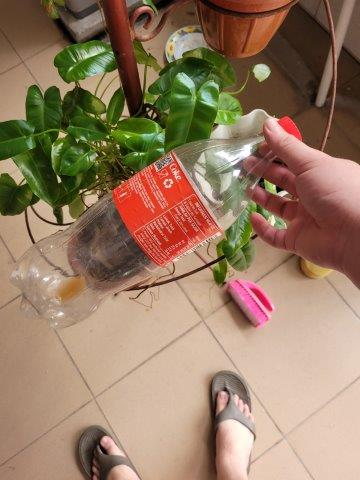botolplastik: (11, 116, 300, 329)
